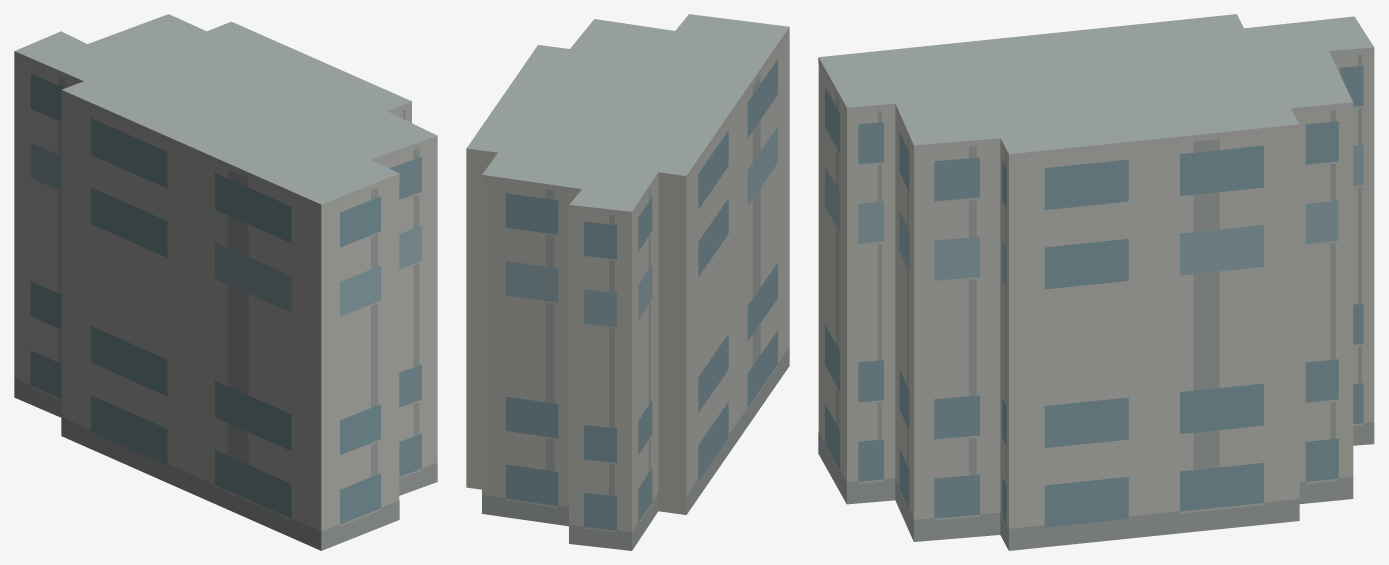
The model's file is survey-upis-32809830.glb.
The picture shows the model from 3 angles, left to right: view 1: azimuth 30°, elevation 25°; view 2: azimuth 150°, elevation 25°; view 3: azimuth 270°, elevation 25°; orthographic projection. The views are drawn at different scales.
Parts seen in each view (by area): view 1: survey-upis-32809830.tmp; view 2: survey-upis-32809830.tmp; view 3: survey-upis-32809830.tmp.
Boxes of the visible parts, x1,y1,x2,y2 form: survey-upis-32809830.tmp: [14, 14, 437, 550]; survey-upis-32809830.tmp: [466, 14, 789, 550]; survey-upis-32809830.tmp: [818, 14, 1374, 550].
Size of the model in its own units: 11.57 by 15.25 by 19.38.
